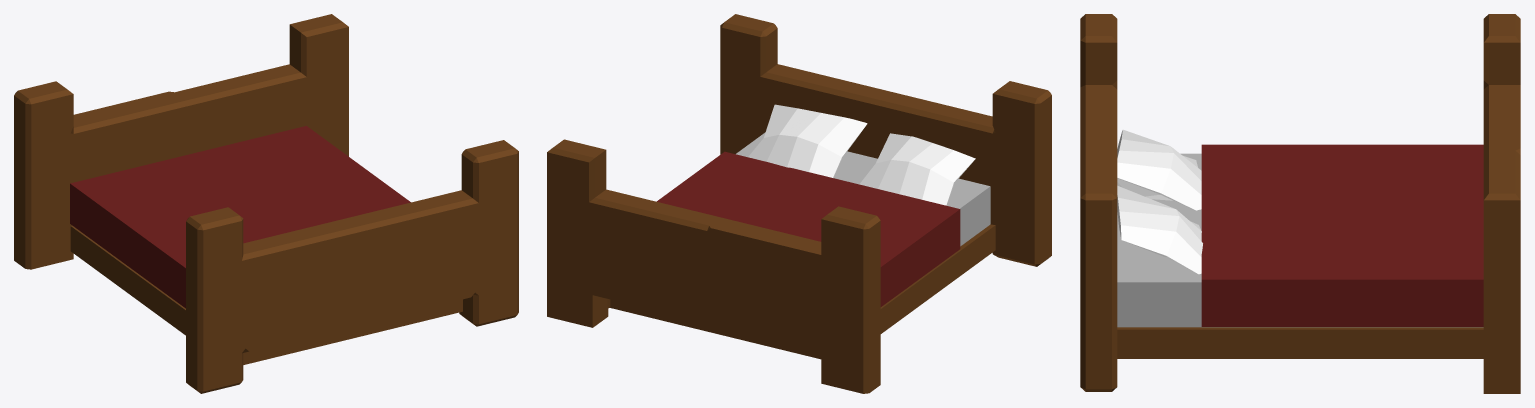
File: Bed_couple.fbx
3 views of the same model, side by side, from view 1: azimuth 30°, elevation 25°; view 2: azimuth 150°, elevation 25°; view 3: azimuth 270°, elevation 25° (orthographic). The views are drawn at different scales.
Visible parts, largest first — view 1: Bed_Couple; view 2: Bed_Couple; view 3: Bed_Couple.
Part boxes in pixels (x1,y1,x2,y2): Bed_Couple: (14, 14, 518, 393); Bed_Couple: (547, 14, 1051, 393); Bed_Couple: (1080, 14, 1520, 393).
Bounding box in the file's own units: 319 × 160 × 323.
